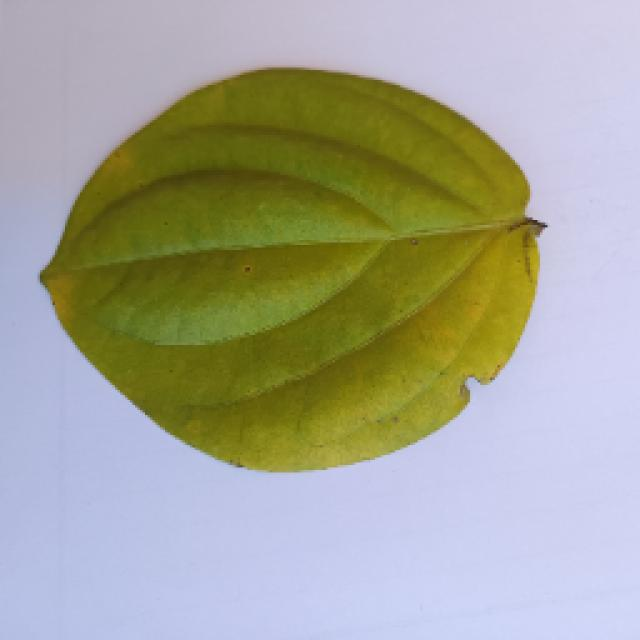slow-decline: (22, 63, 552, 475)
